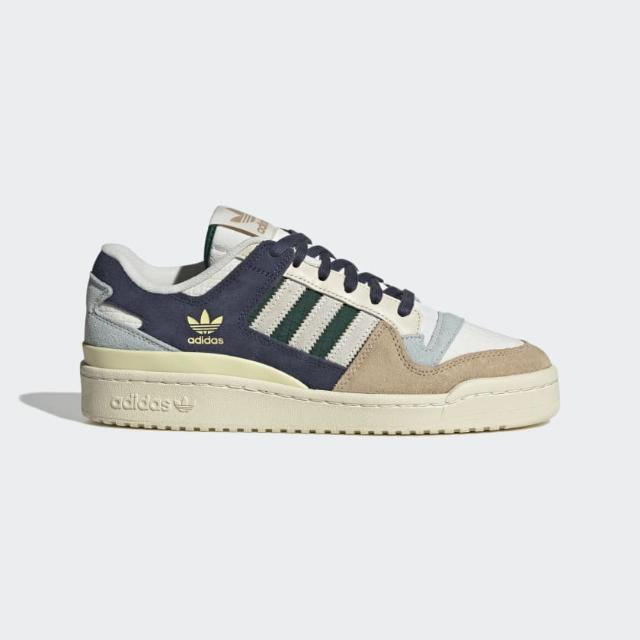Adidas: (186, 308, 224, 347), (110, 390, 172, 412), (184, 308, 226, 334), (185, 335, 225, 347), (174, 394, 196, 414)
